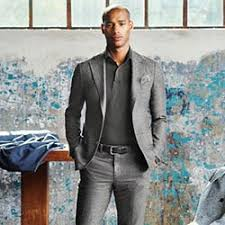F_belt: (91, 139, 158, 159)
